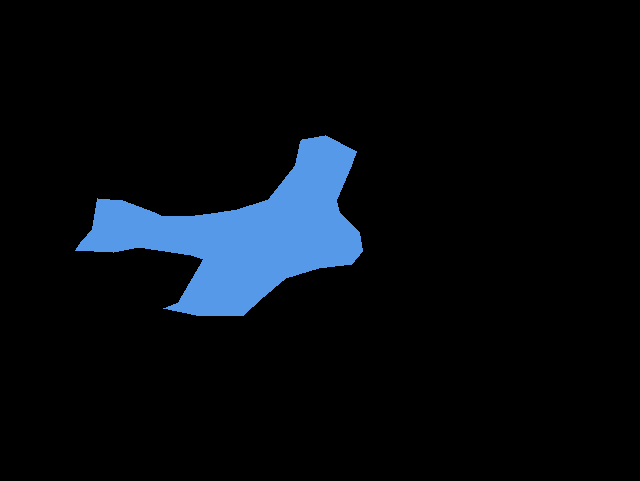Airplane: (75, 135, 363, 315)
